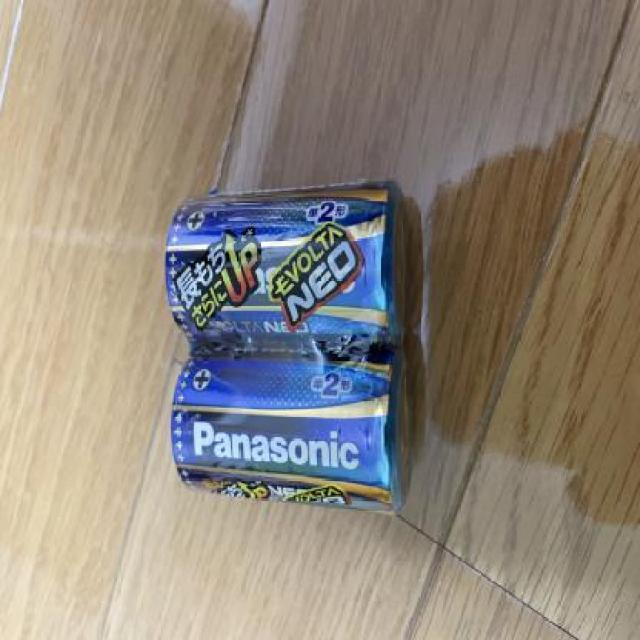hazardous waste: (163, 177, 412, 354), (166, 357, 420, 525)
